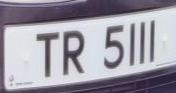1: (126, 18, 141, 73), (145, 14, 160, 69), (137, 16, 148, 67)
5: (100, 18, 129, 77)
R: (59, 24, 90, 81)
T: (30, 27, 64, 83)
